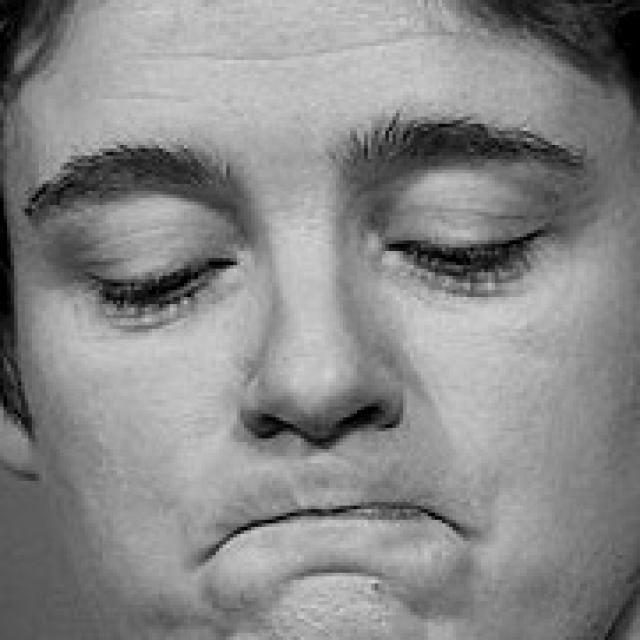real: (16, 8, 596, 624), (71, 181, 561, 316)
